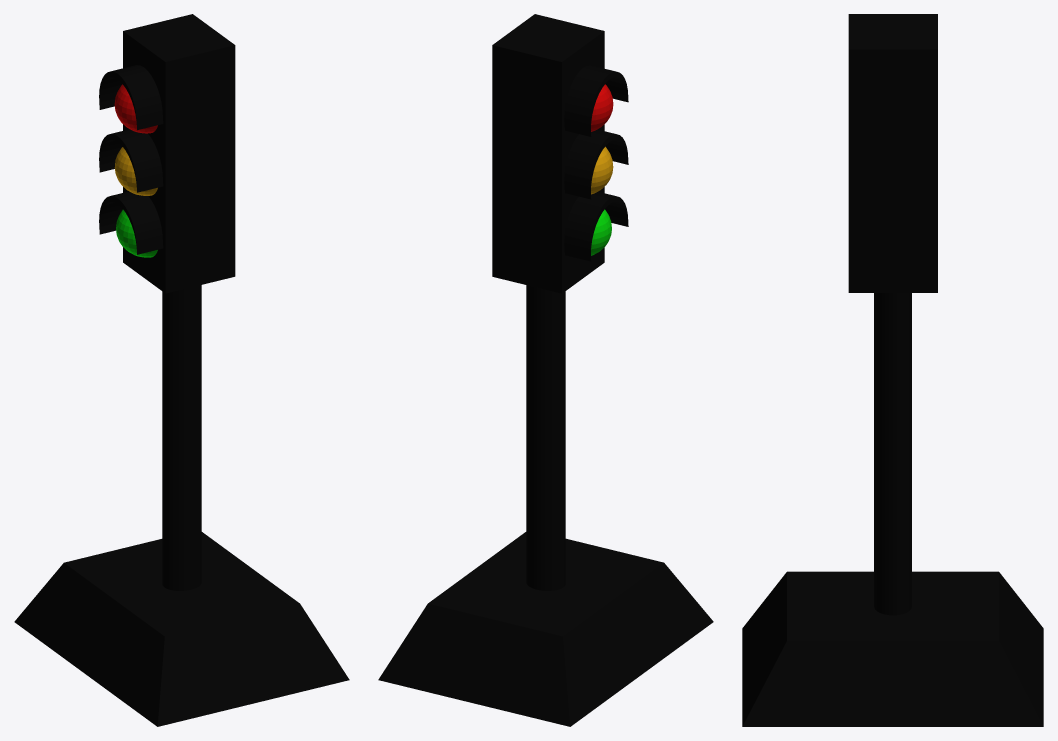
File: streetlight.obj
3 views of the same model, side by side, from view 1: azimuth 30°, elevation 25°; view 2: azimuth 150°, elevation 25°; view 3: azimuth 270°, elevation 25° (orthographic). The views are drawn at different scales.
Visible parts, largest first — view 1: Stoplight, Cylinder, Cylinder.002, Cylinder.001; view 2: Stoplight, Cylinder, Cylinder.002, Cylinder.001; view 3: Stoplight.
Part boxes in pixels (left/top/right/bottom): Stoplight: left=14, top=14, right=349, bottom=726; Cylinder: left=99, top=65, right=163, bottom=130; Cylinder.002: left=99, top=191, right=163, bottom=254; Cylinder.001: left=99, top=129, right=163, bottom=192; Stoplight: left=378, top=14, right=713, bottom=726; Cylinder: left=564, top=65, right=628, bottom=136; Cylinder.002: left=564, top=191, right=628, bottom=261; Cylinder.001: left=564, top=129, right=628, bottom=199; Stoplight: left=742, top=14, right=1043, bottom=726.
Bounding box in the file's own units: 3.86 × 11.78 × 4.99.
